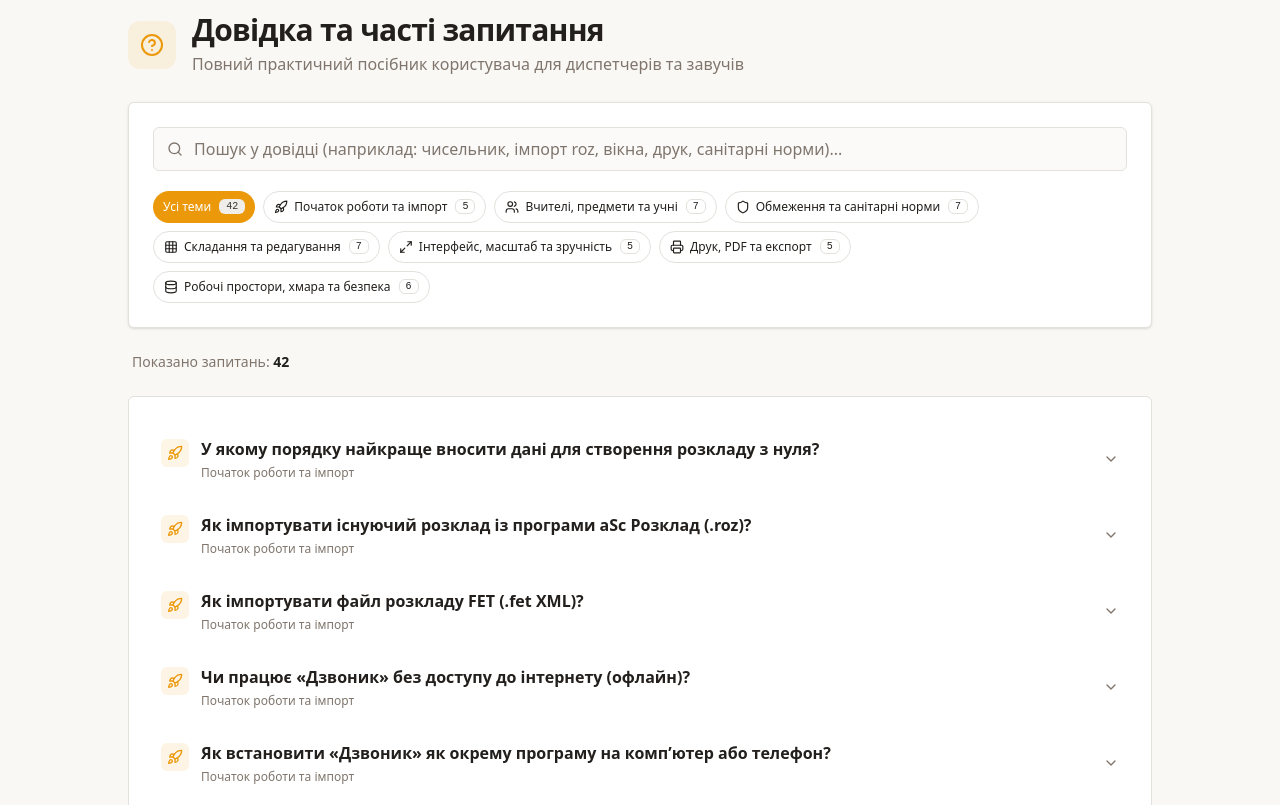
FAQ Page Component › filters questions when typing in the search input
This screenshot has width=1280, height=805.
Step 1. Replace the text in the field labelled "Пошук у довідці" with "чисельник" → (640, 149), box [153,127,1127,171]
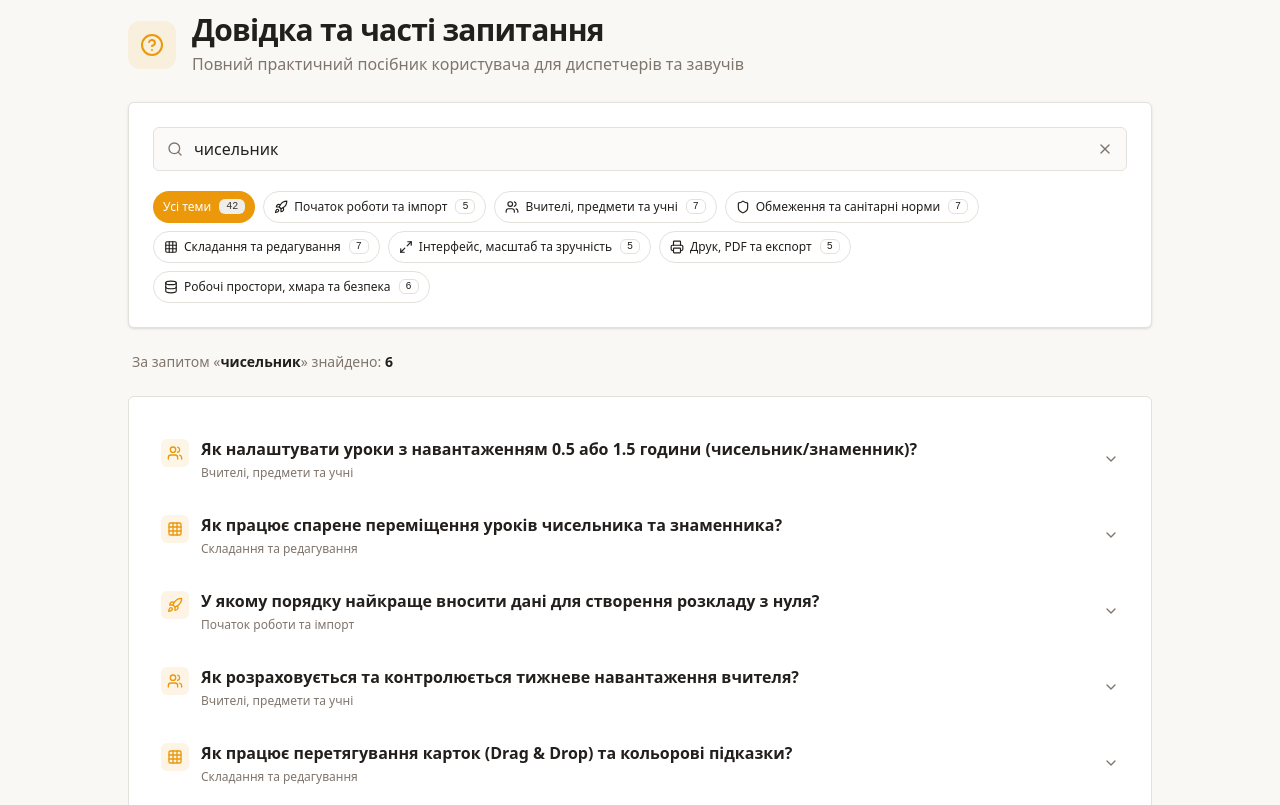
Check: the text "0.5 або 1.5 години" is shown, box [201,438,917,460]
Check: the text "За запитом «чисельник» знайдено: 6" is shown, box [132,352,393,372]
